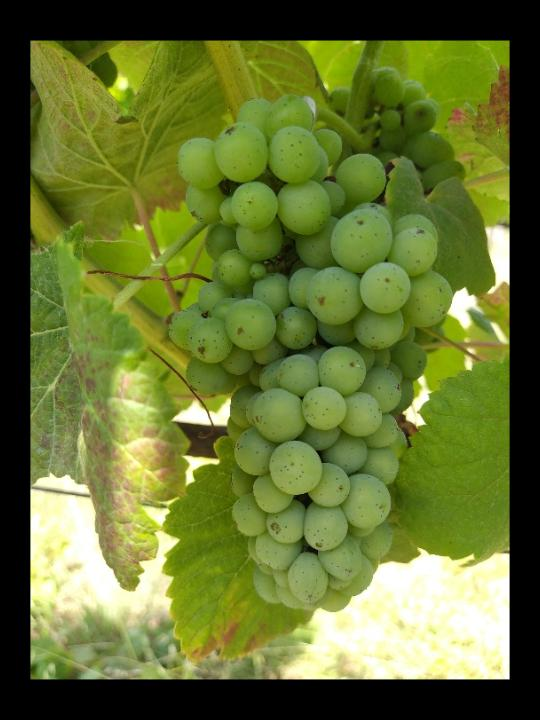grape: (163, 91, 454, 616)
